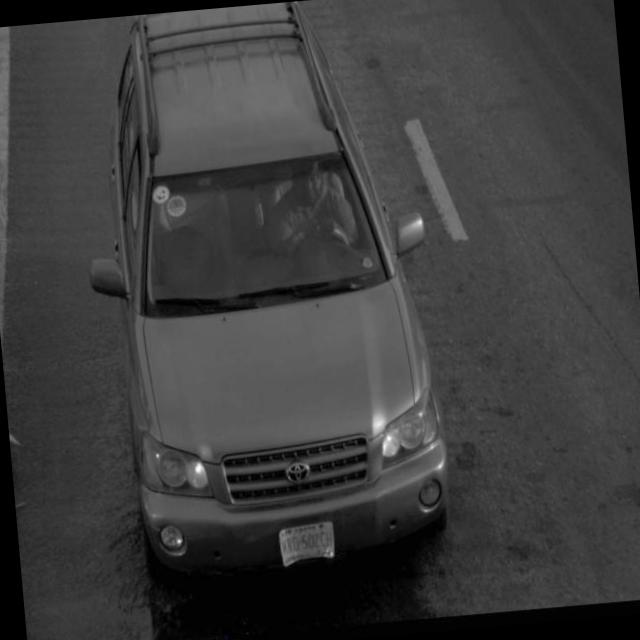person_with_seatbelt: (258, 162, 376, 278)
